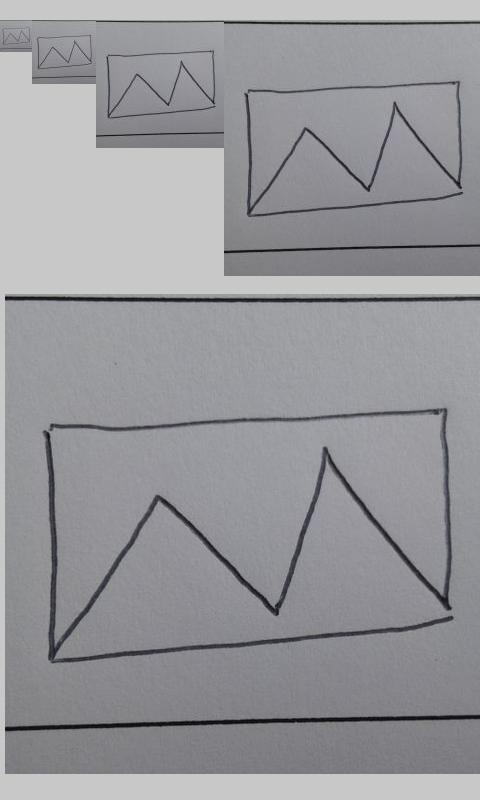image_view: (37, 408, 456, 666), (243, 80, 463, 218), (105, 49, 218, 120), (36, 34, 92, 70), (2, 27, 31, 45)
